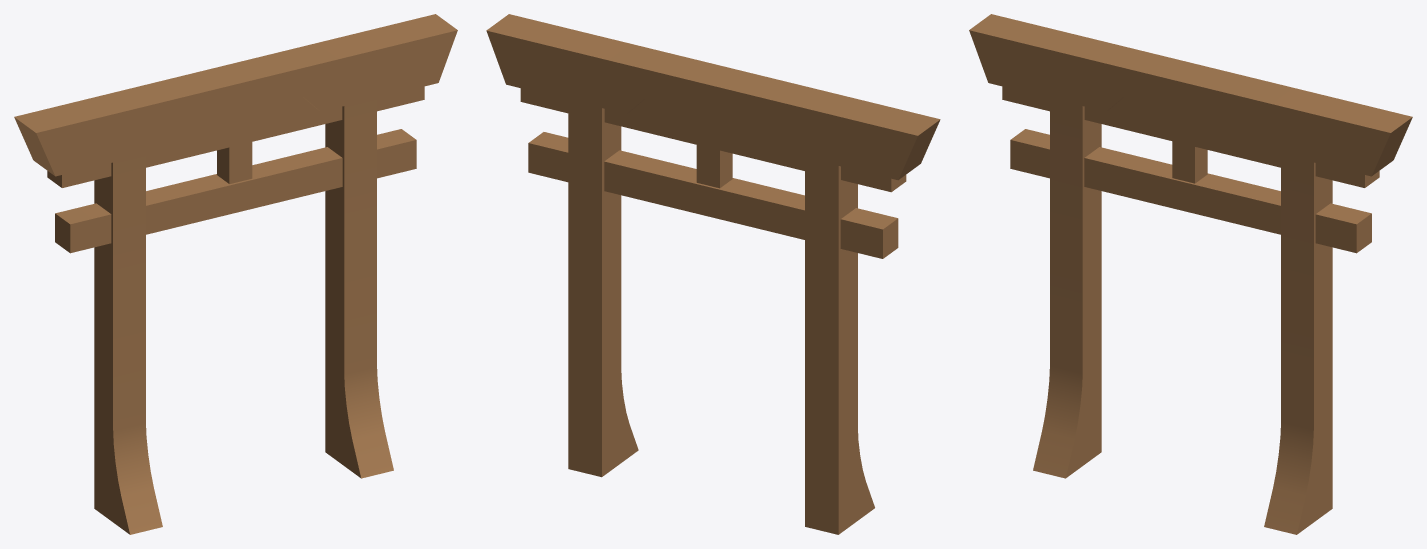
File: torii.glb
The picture shows the model from 3 angles, left to right: view 1: azimuth 30°, elevation 25°; view 2: azimuth 150°, elevation 25°; view 3: azimuth 330°, elevation 25°; orthographic projection. The views are drawn at different scales.
Parts seen in each view (by area): view 1: Environment_ToriiGate; view 2: Environment_ToriiGate; view 3: Environment_ToriiGate.
Part boxes in pixels (bbox=[...]): Environment_ToriiGate: bbox=[14, 14, 457, 534]; Environment_ToriiGate: bbox=[486, 14, 940, 534]; Environment_ToriiGate: bbox=[969, 14, 1412, 534].
Bounding box in the file's own units: 5.73 × 5.32 × 0.8752.
Materials: 1 (1 with a texture image).
